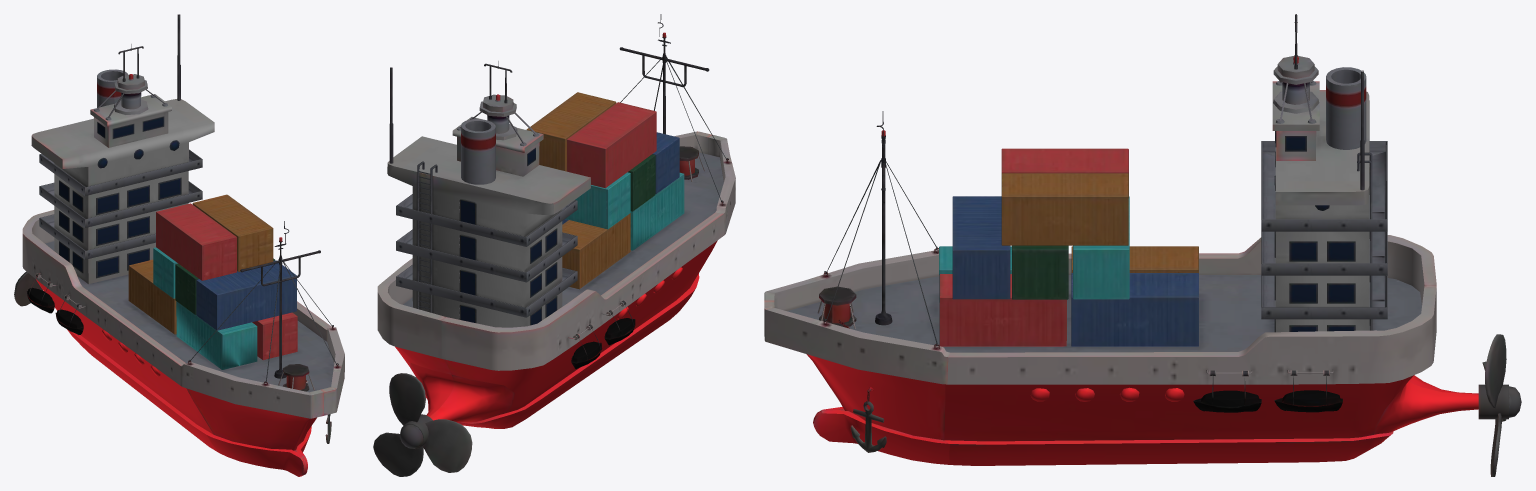
Rendered from cargo-ship-transformed.glb.
The picture shows the model from 3 angles, left to right: view 1: azimuth 30°, elevation 25°; view 2: azimuth 150°, elevation 25°; view 3: azimuth 270°, elevation 25°; orthographic projection. The views are drawn at different scales.
Visible parts, largest first — view 1: node_id6, node_id9; view 2: node_id6, node_id9; view 3: node_id6, node_id9.
Boxes of the visible parts, box(x1,y1,x2,y2) form: node_id6: box(14, 74, 344, 476); node_id9: box(39, 14, 338, 392); node_id6: box(373, 94, 735, 476); node_id9: box(389, 14, 728, 325); node_id6: box(764, 56, 1521, 476); node_id9: box(787, 14, 1421, 352).
Size of the model in its own units: 0.31 by 0.512 by 0.7821.
Materials: 2 (2 with a texture image).
